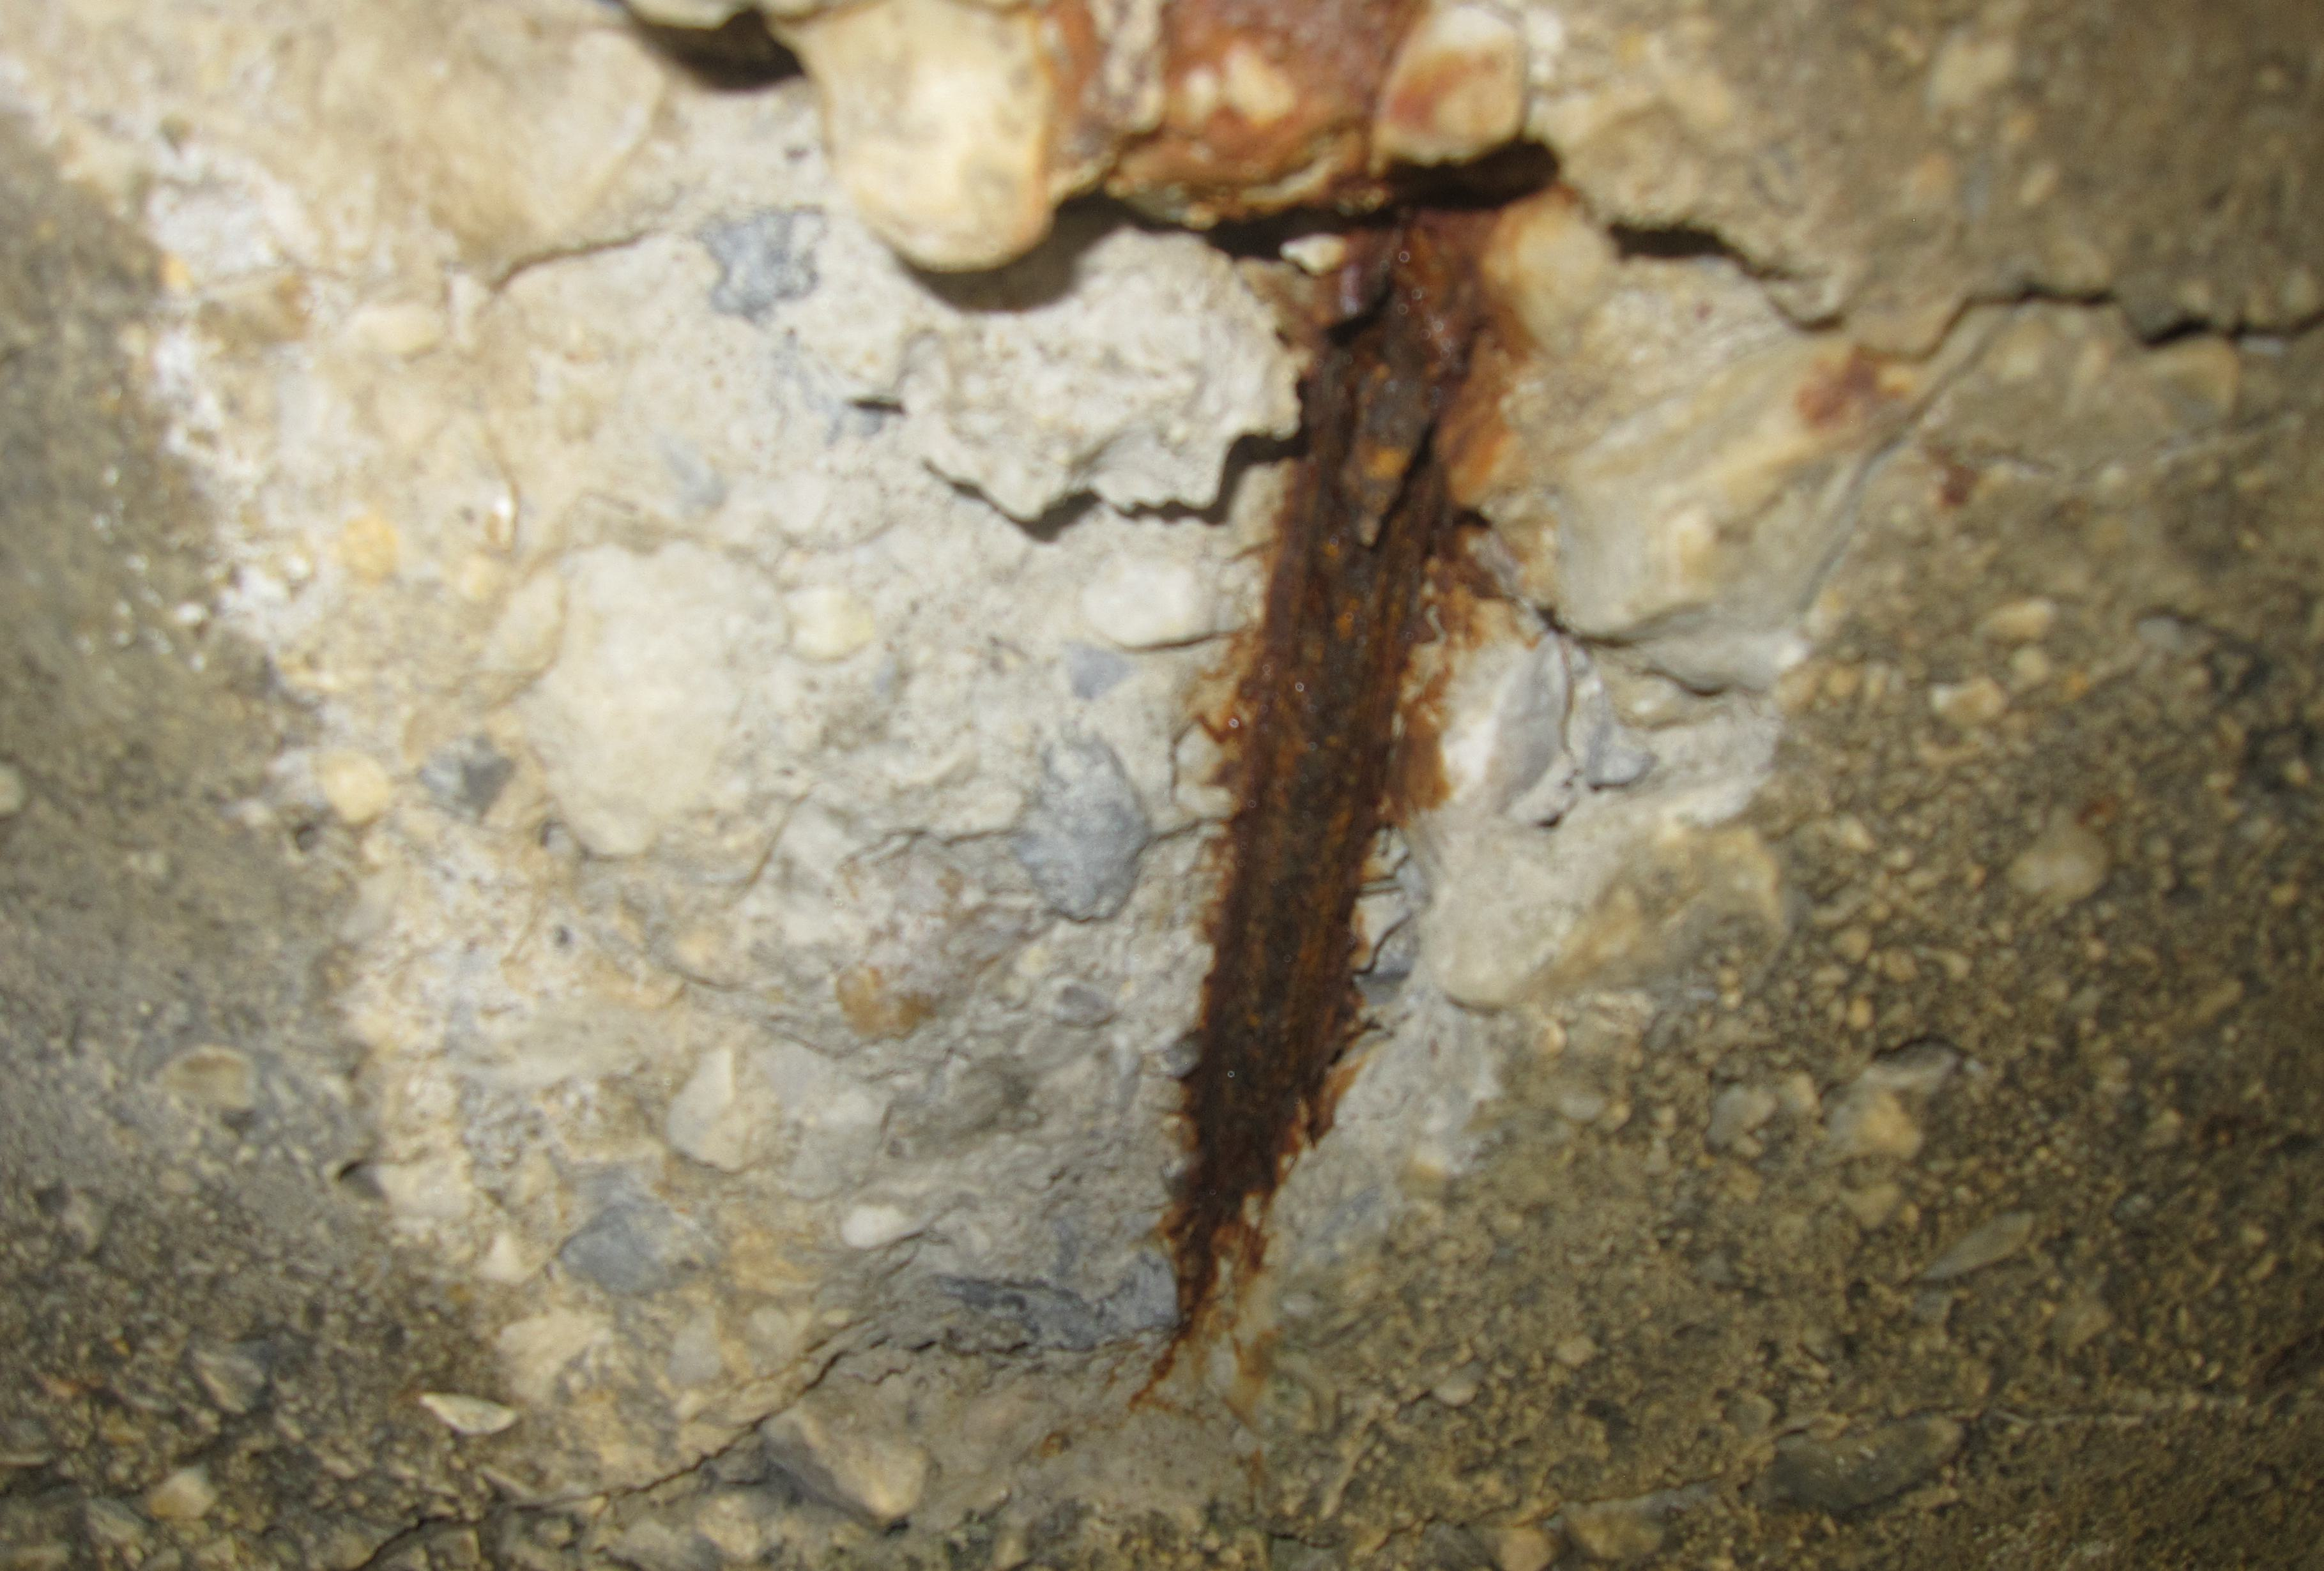Exposed reinforcement: (1128, 181, 1500, 1413)
Spalling: (0, 0, 1873, 1411)
